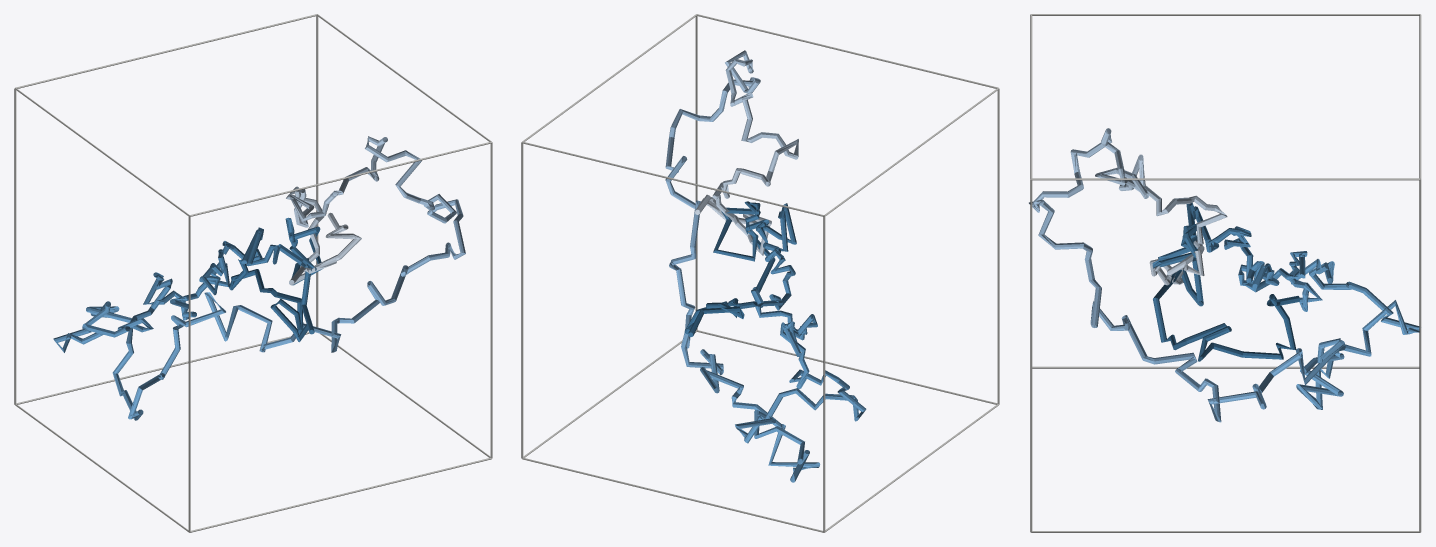
3 views of the same model, side by side, from view 1: azimuth 30°, elevation 25°; view 2: azimuth 150°, elevation 25°; view 3: azimuth 270°, elevation 25° (orthographic). The views are drawn at different scales.
Visible parts, largest first — view 1: geometry_0, geometry_1; view 2: geometry_0, geometry_1; view 3: geometry_0, geometry_1.
Boxes of the visible parts, left/top/right/bottom form: geometry_0: left=53, top=136, right=465, bottom=420; geometry_1: left=14, top=14, right=492, bottom=532; geometry_0: left=665, top=50, right=866, bottom=482; geometry_1: left=521, top=14, right=999, bottom=532; geometry_0: left=1029, top=128, right=1419, bottom=422; geometry_1: left=1030, top=14, right=1421, bottom=532.
Bounding box in the file's own units: 0.3041 × 0.3037 × 0.3031.
